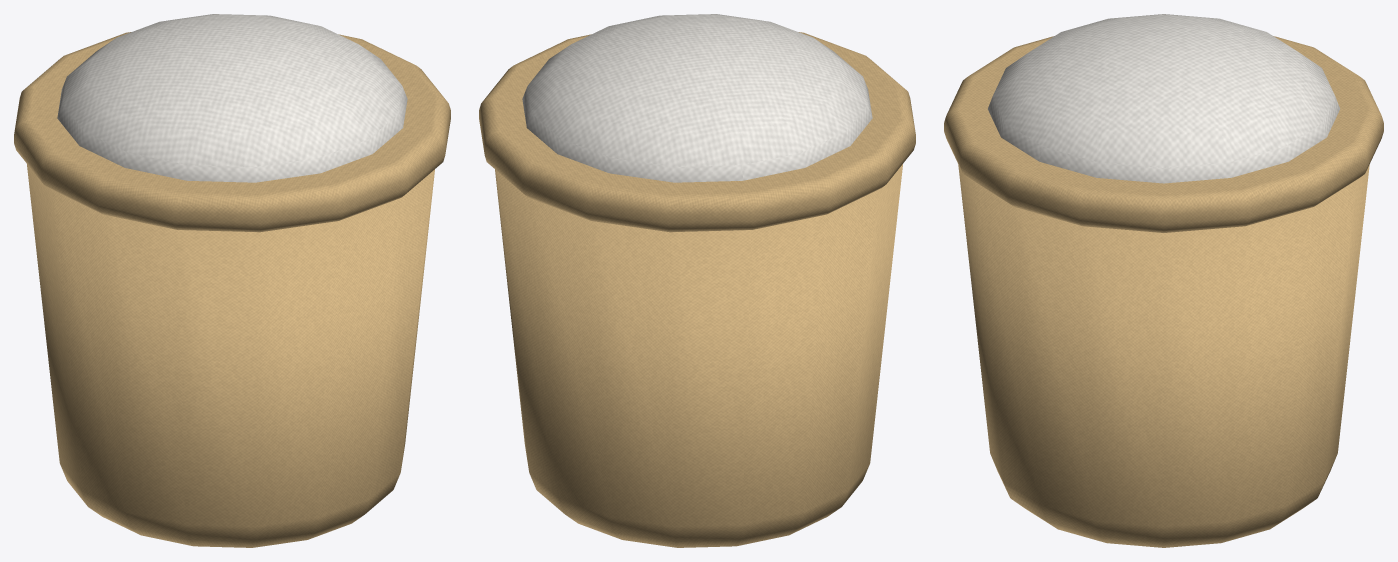
Rendered from prop_basket.glb.
The picture shows the model from 3 angles, left to right: view 1: azimuth 30°, elevation 25°; view 2: azimuth 150°, elevation 25°; view 3: azimuth 270°, elevation 25°; orthographic projection.
Visible parts, largest first — view 1: prop_basket; view 2: prop_basket; view 3: prop_basket.
Part boxes in pixels (x1,y1,x2,y2): prop_basket: (14, 14, 450, 547); prop_basket: (479, 14, 915, 547); prop_basket: (944, 14, 1383, 547).
Size of the model in its own units: 0.55 by 0.6125 by 0.55.
2 materials, 2 textured.
